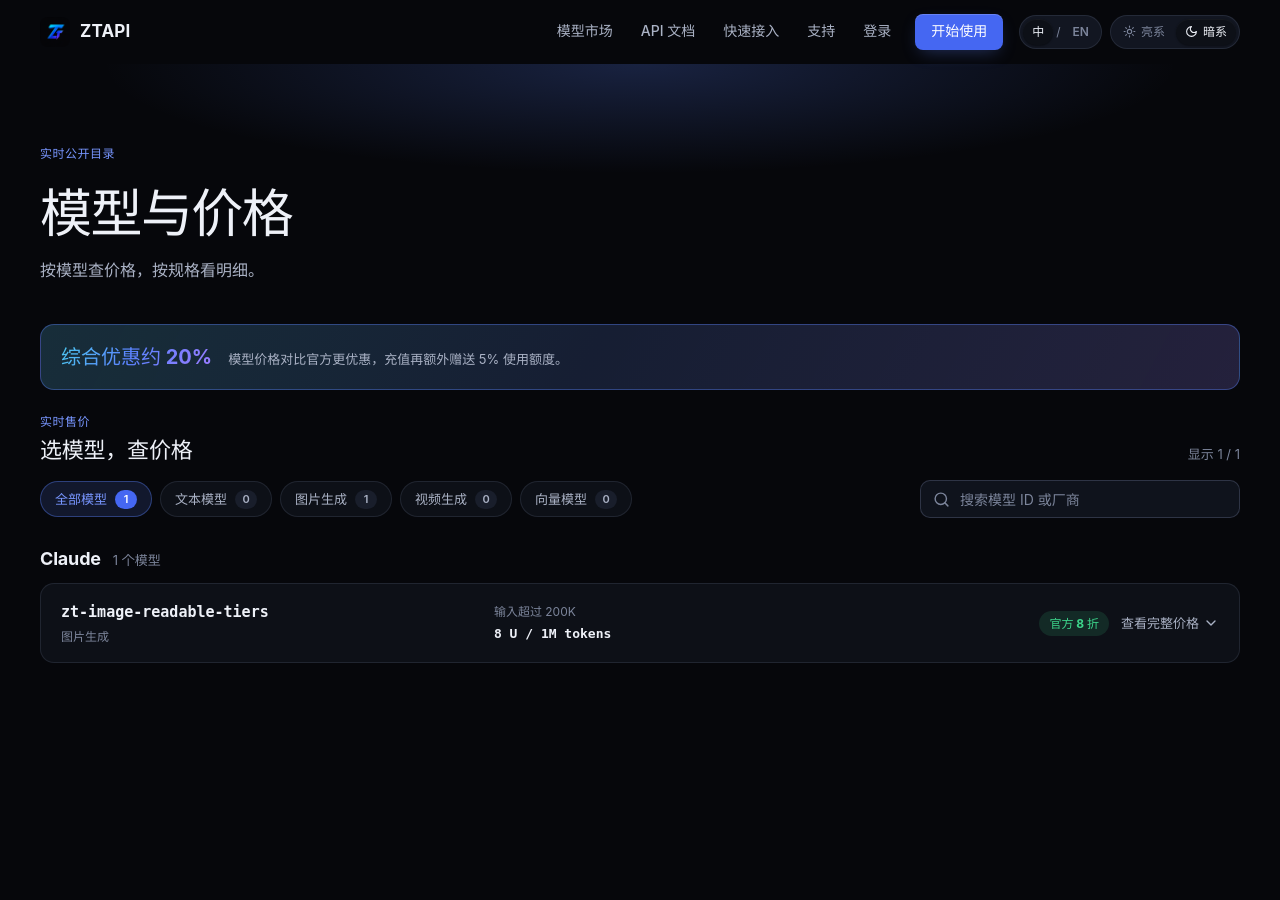
Scenario: ZTAPI public model pricing › translates media pricing buckets into customer-facing descriptions
The image size is (1280, 900).
Check: the text "zt-image-readable-tiers" is shown, box x1=61 y1=603 x2=269 y2=621
Click the text "查看完整价格" at (1170, 623), box x1=1121 y1=613 x2=1219 y2=634
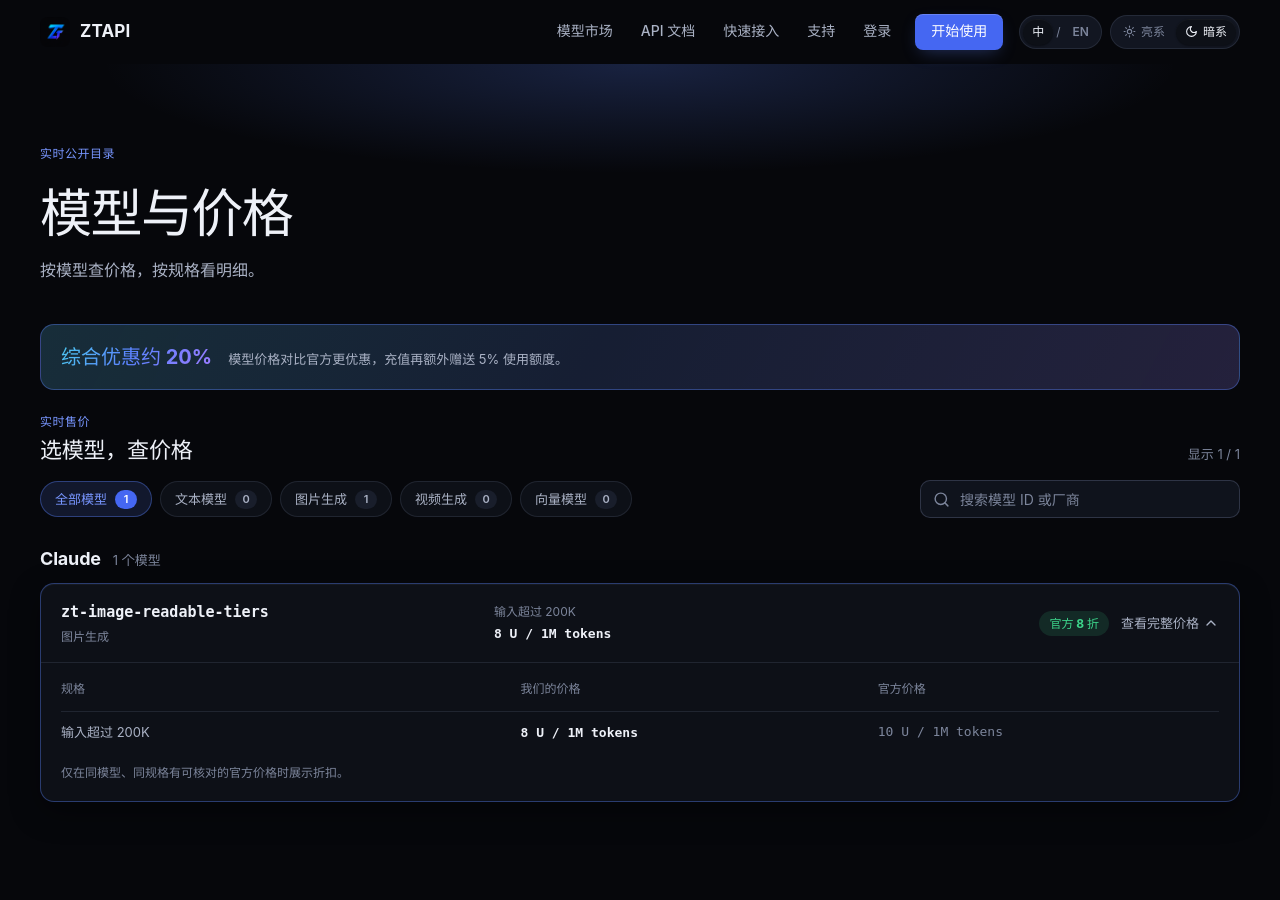
Check: the element "zt-image-readable-tiers" does not show "gt_200k", box x1=40 y1=583 x2=1240 y2=802
Check: the text "输入超过 200K" in the row of "10 U / 1M tokens" is shown, box x1=61 y1=724 x2=150 y2=740
